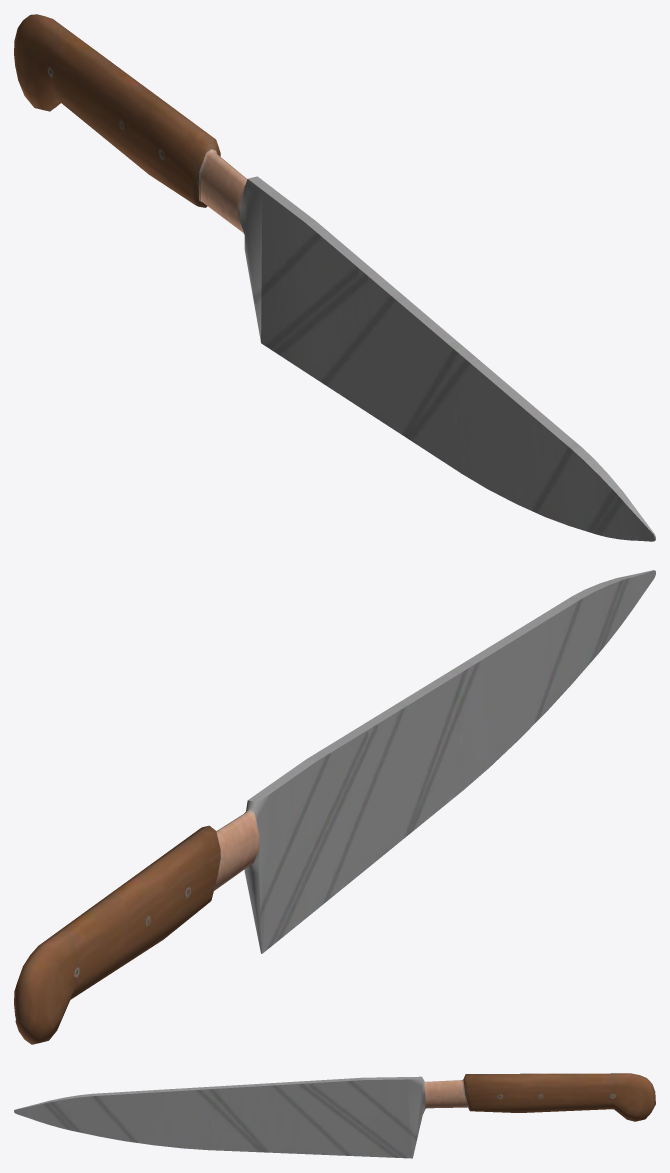
Rendered from Knife.glb.
3 views of the same model, one above another, from view 1: azimuth 30°, elevation 25°; view 2: azimuth 150°, elevation 25°; view 3: azimuth 270°, elevation 25° (orthographic). The views are drawn at different scales.
Visible parts, largest first — view 1: Knife; view 2: Knife; view 3: Knife.
Part boxes in pixels (x1=…): Knife: x1=14, y1=14, x2=655, y2=541; Knife: x1=14, y1=570, x2=655, y2=1044; Knife: x1=14, y1=1073, x2=655, y2=1158.
Bounding box in the file's own units: 0.0087 × 0.0526 × 0.3609.
1 material, 1 textured.
